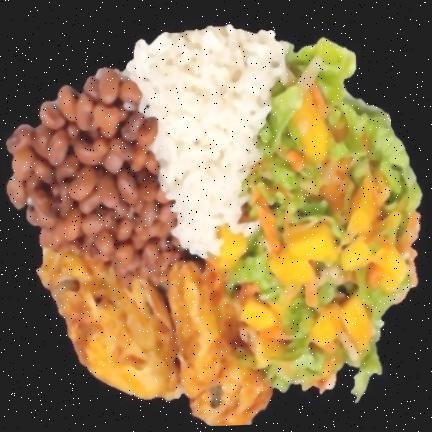beans: (9, 70, 182, 283)
chicken: (38, 250, 273, 426)
rice: (128, 26, 286, 258)
salad: (287, 39, 421, 213), (244, 98, 322, 225), (237, 244, 278, 299)
